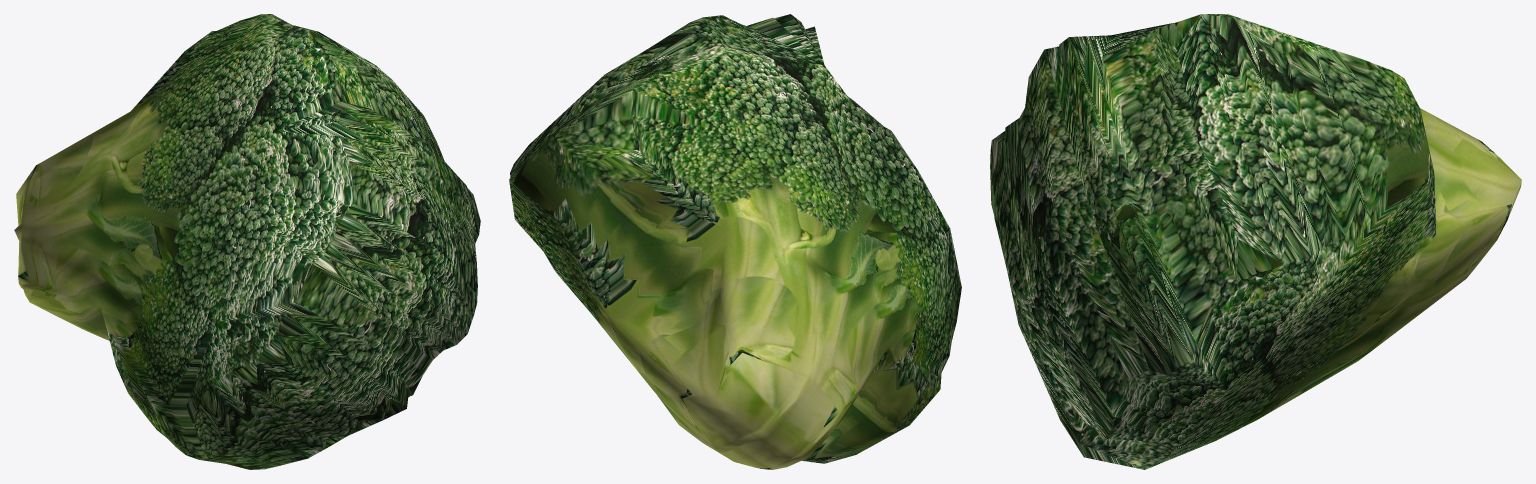
The model's file is Brocolli.FBX.
The picture shows the model from 3 angles, left to right: view 1: azimuth 30°, elevation 25°; view 2: azimuth 150°, elevation 25°; view 3: azimuth 270°, elevation 25°; orthographic projection. The views are drawn at different scales.
Visible parts, largest first — view 1: broccoli_basket_broccoli; view 2: broccoli_basket_broccoli; view 3: broccoli_basket_broccoli.
Boxes of the visible parts, left/top/right/bottom form: broccoli_basket_broccoli: left=14, top=14, right=480, bottom=469; broccoli_basket_broccoli: left=509, top=14, right=961, bottom=469; broccoli_basket_broccoli: left=990, top=14, right=1521, bottom=469.
Size of the model in its own units: 1.95 by 2.05 by 2.08.
